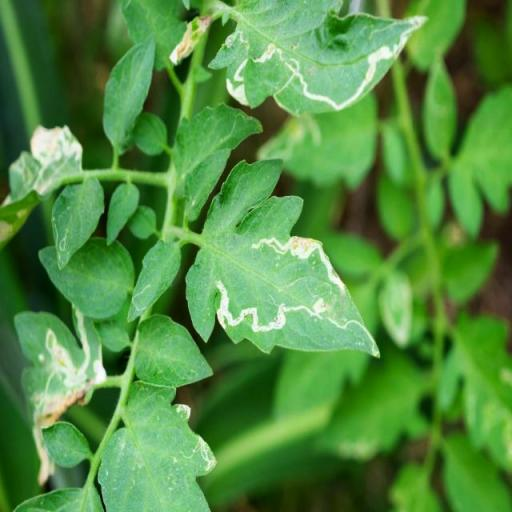Healthy: (39, 238, 133, 316), (102, 38, 156, 158), (134, 314, 214, 392)
Leaf Miner: (187, 157, 381, 358), (206, 0, 428, 122)
